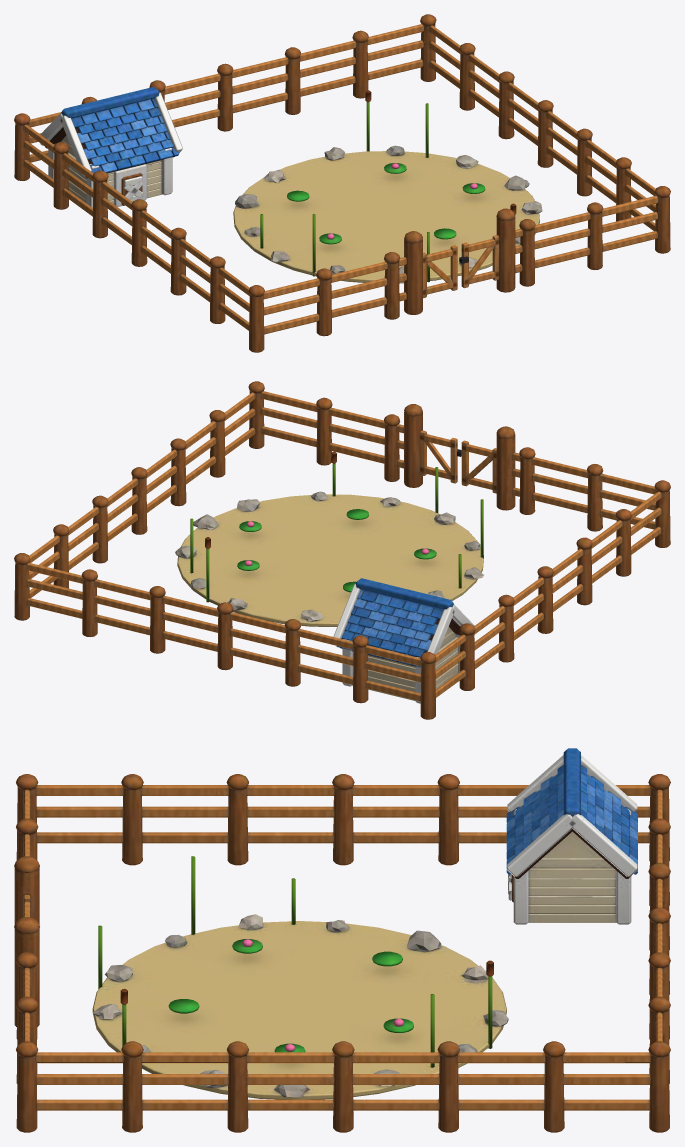
File: call_duck_pond.glb
3 views of the same model, one above another, from view 1: azimuth 30°, elevation 25°; view 2: azimuth 150°, elevation 25°; view 3: azimuth 270°, elevation 25° (orthographic). The views are drawn at different scales.
Parts seen in each view (by area): view 1: call_duck_pond, gate1, gate0; view 2: call_duck_pond, gate1, gate0; view 3: call_duck_pond.
Boxes of the visible parts, x1,y1,x2,y2 form: call_duck_pond: [14, 14, 670, 352]; gate1: [459, 235, 499, 288]; gate0: [423, 245, 457, 298]; call_duck_pond: [14, 381, 670, 719]; gate1: [420, 430, 461, 483]; gate0: [461, 440, 496, 493]; call_duck_pond: [14, 748, 670, 1132].
Size of the model in its own units: 3 by 0.615 by 3.01.
1 material, 1 textured.
